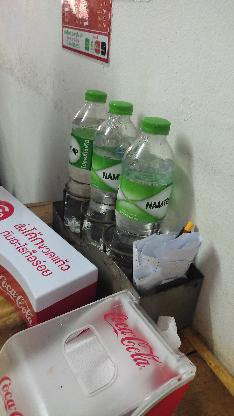Plastic Bottle: (114, 117, 176, 275), (80, 100, 148, 244), (57, 90, 116, 235)
